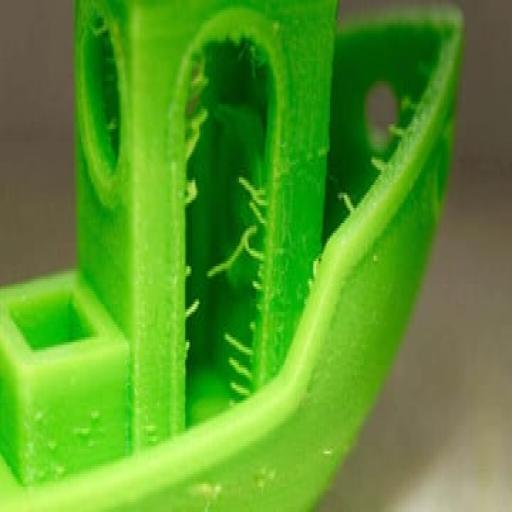stringing: (182, 45, 280, 402)
